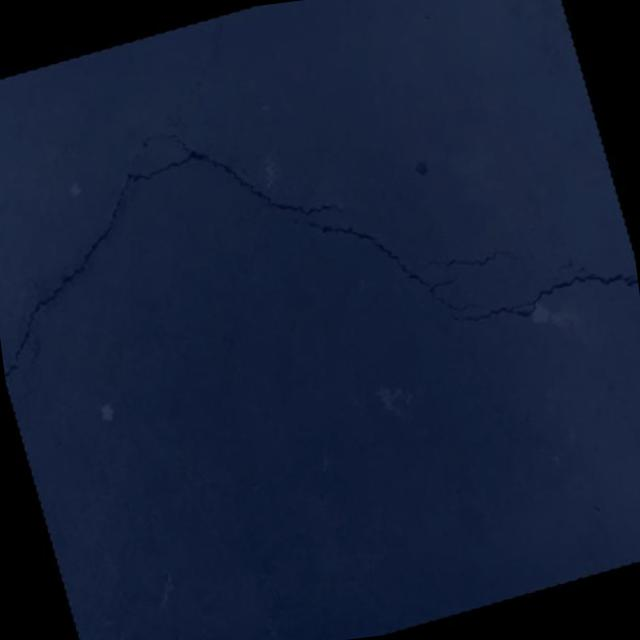crack: (0, 81, 386, 378), (284, 170, 489, 356), (441, 243, 640, 340), (150, 19, 246, 128), (416, 232, 542, 294), (458, 330, 488, 392)
